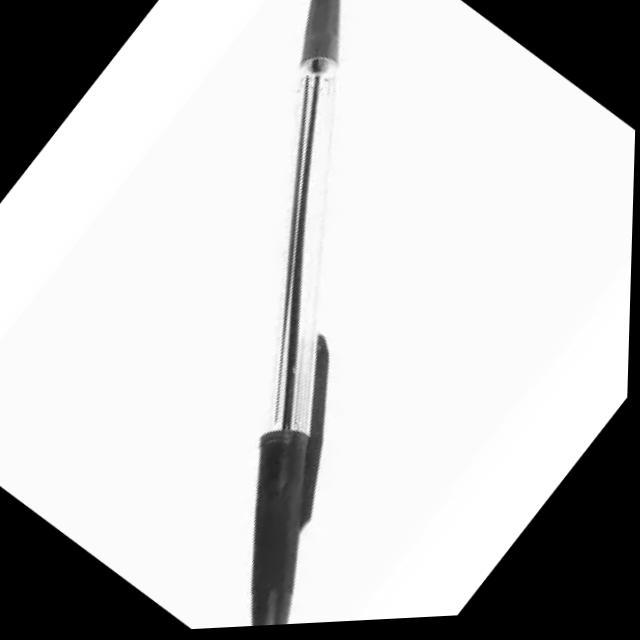pencil: (220, 0, 378, 629)
